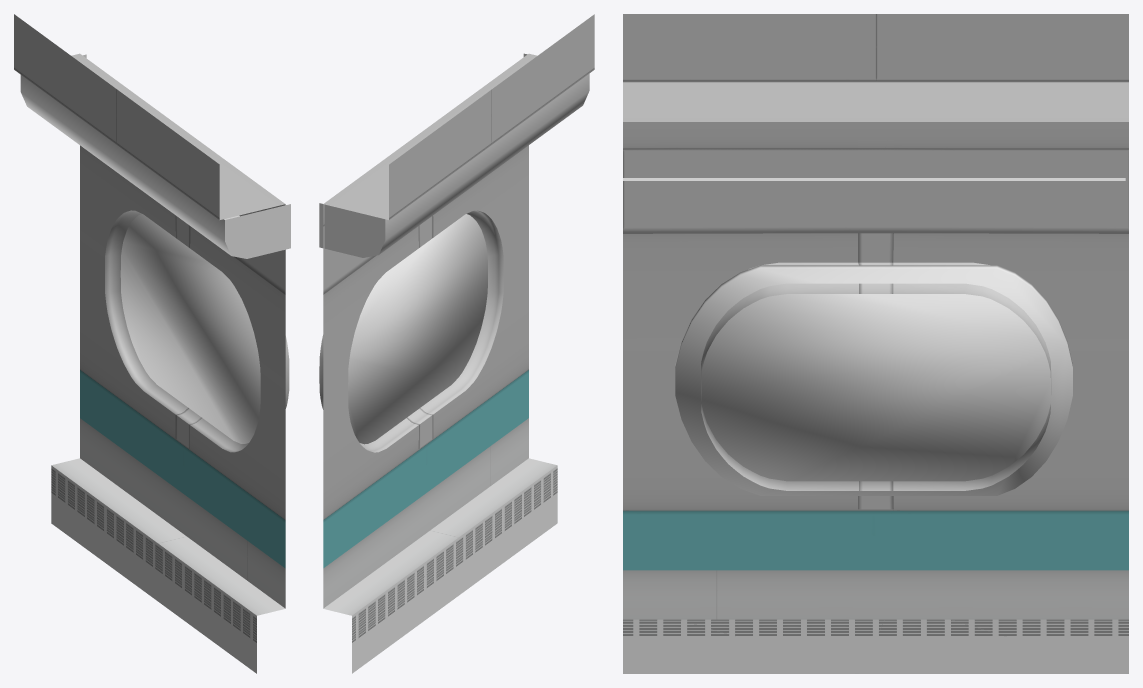
File: TrainWindow.fbx
The picture shows the model from 3 angles, left to right: view 1: azimuth 30°, elevation 25°; view 2: azimuth 150°, elevation 25°; view 3: azimuth 270°, elevation 25°; orthographic projection. The views are drawn at different scales.
Parts seen in each view (by area): view 1: WallWindowSmall, WindowPaneSmall, WallLamp; view 2: WallWindowSmall, WindowPaneSmall, WallLamp; view 3: WallWindowSmall, WindowPaneSmall, WallLamp.
Boxes of the visible parts, left/top/right/bottom form: WallWindowSmall: left=14, top=14, right=289, bottom=673; WindowPaneSmall: left=120, top=214, right=260, bottom=443; WallLamp: left=20, top=54, right=290, bottom=258; WallWindowSmall: left=319, top=14, right=594, bottom=673; WindowPaneSmall: left=348, top=214, right=487, bottom=444; WallLamp: left=319, top=53, right=589, bottom=257; WallWindowSmall: left=623, top=14, right=1128, bottom=673; WindowPaneSmall: left=675, top=265, right=1072, bottom=495; WallLamp: left=623, top=178, right=1125, bottom=180.
Bounding box in the file's own units: 57.27 × 280 × 201.
